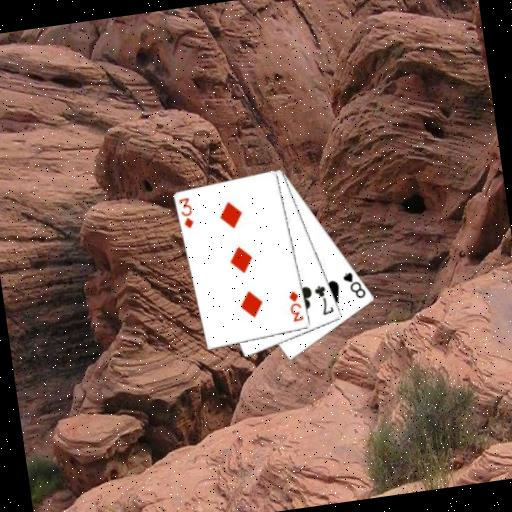3D: (286, 287, 306, 324), (176, 195, 196, 232)
7C: (311, 281, 336, 319)
8S: (340, 267, 369, 302)
